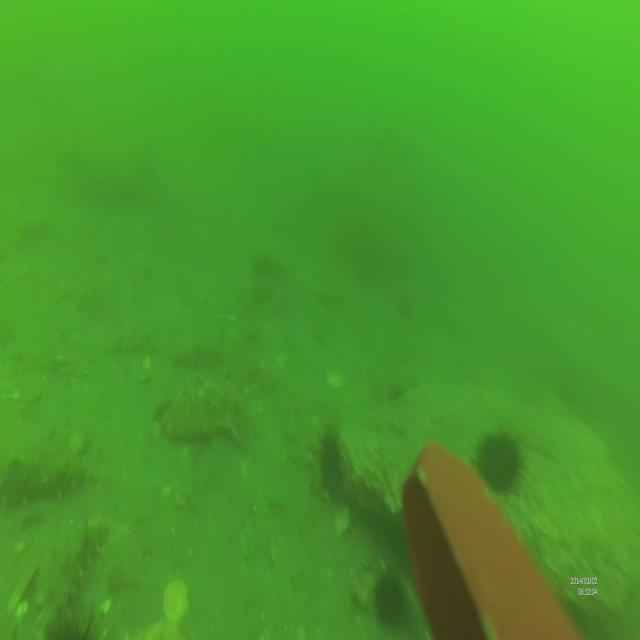echinus: (472, 426, 524, 495), (40, 608, 102, 640), (373, 572, 409, 626), (318, 423, 343, 493)
holothurian: (30, 519, 110, 612), (0, 458, 88, 506), (173, 342, 227, 376)
scallop: (160, 576, 192, 624)
